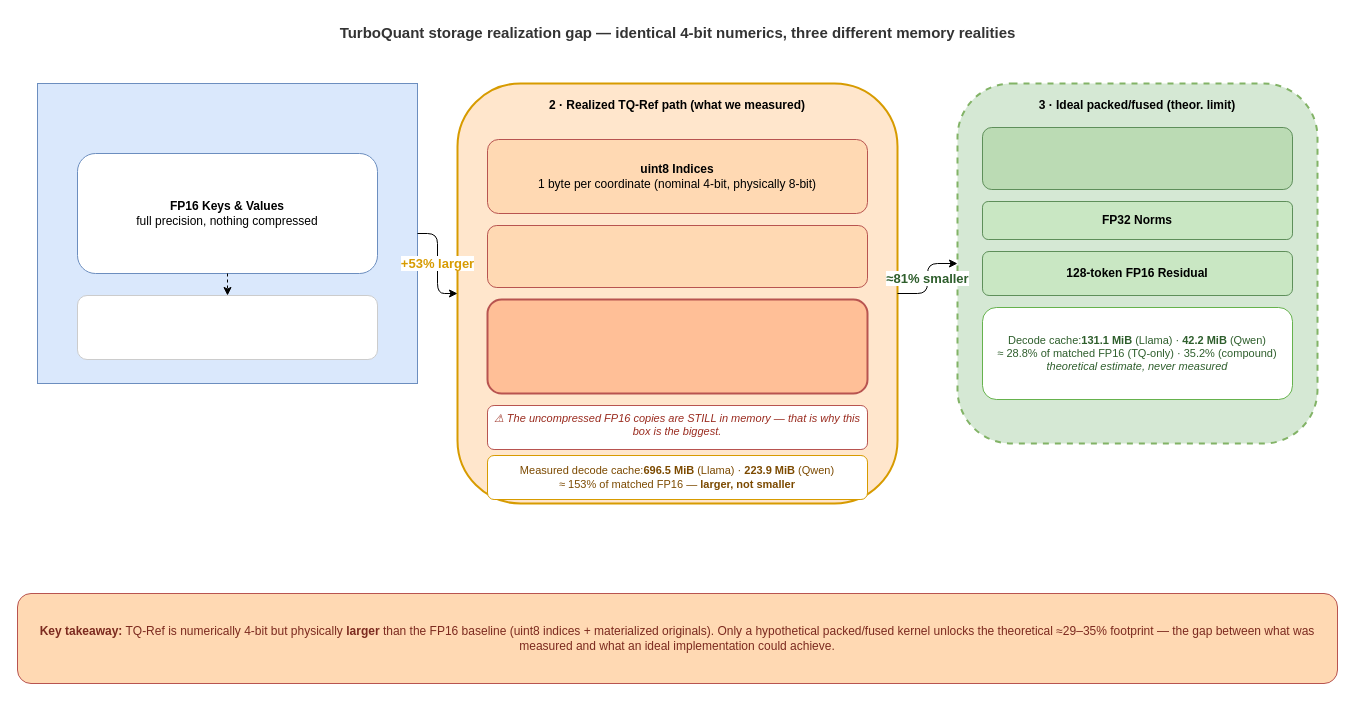
Some shapes in this 1355 by 701 pixel diagram are drawn without their labels. The shapes that lost their labels are listed below. From the top down, each one's box as (x1, y1, x2, y2) in pixels, then its label:
(982, 126, 1292, 190): Packed 4-bit Indices (physically packed, not uint8)
(36, 82, 418, 384): 1 · Matched FP16 baseline
(486, 224, 868, 288): FP32 Norms / Scales per-token scaling state
(76, 294, 378, 360): Measured Llama decode cache: 455.0 MiB (↓ 146.2 MiB for Qwen)
(486, 298, 868, 394): Materialized FP16 Key/Value tensors full-resolution originals kept resident
